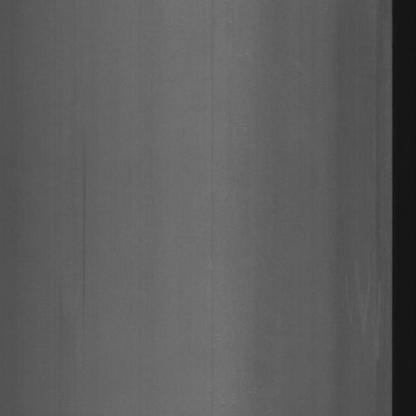silk_spot: (349, 243, 385, 354)
